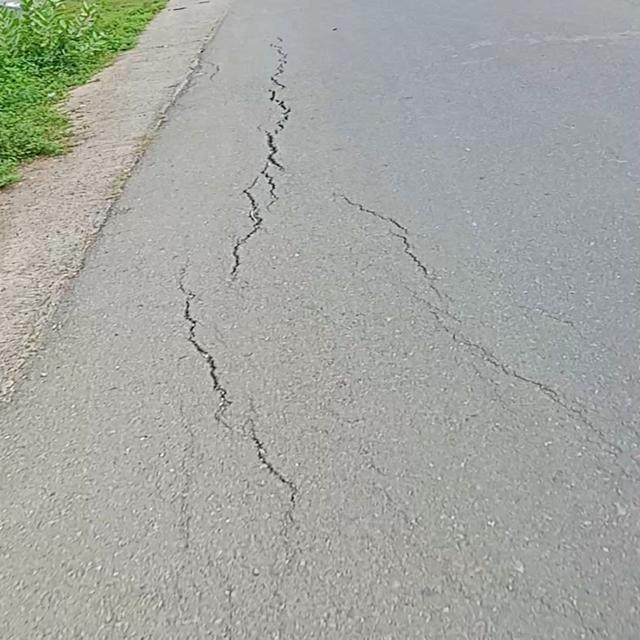Memanjang: (330, 186, 627, 494), (210, 23, 299, 310), (169, 277, 248, 444)
